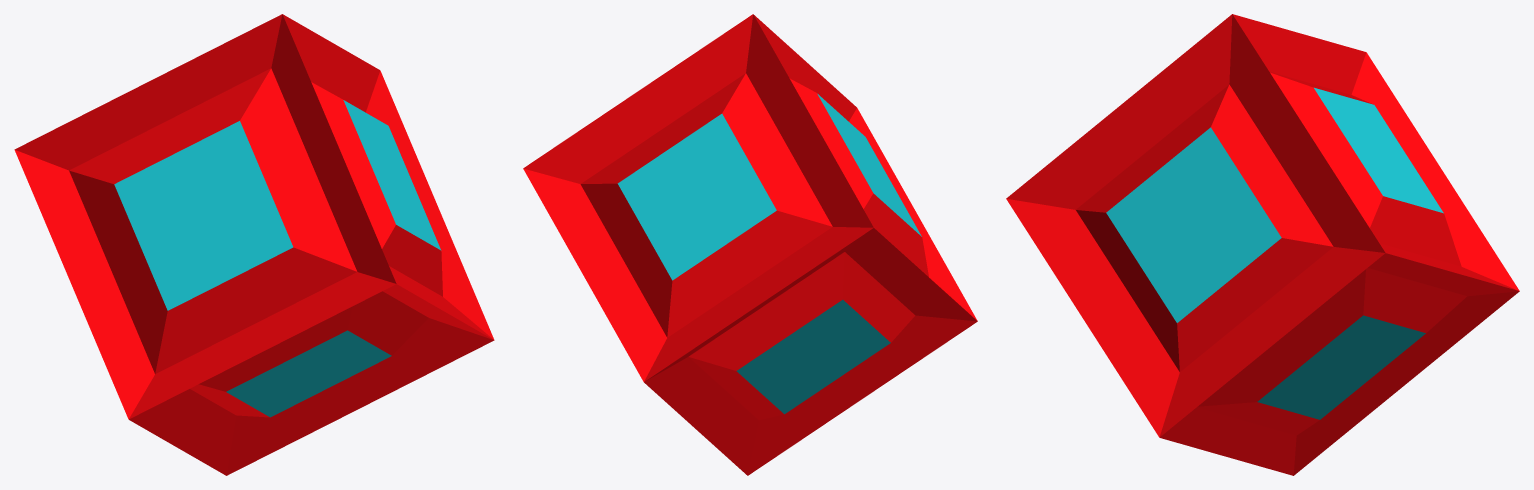
Rendered from badforceCollectable.fbx.
3 views of the same model, side by side, from view 1: azimuth 30°, elevation 25°; view 2: azimuth 150°, elevation 25°; view 3: azimuth 270°, elevation 25° (orthographic). The views are drawn at different scales.
Parts seen in each view (by area): view 1: Cube, Cube.001; view 2: Cube, Cube.001; view 3: Cube, Cube.001.
Boxes of the visible parts, box(x1,y1,x2,y2) form: Cube: box(14, 14, 494, 475); Cube.001: box(114, 100, 441, 417); Cube: box(523, 14, 977, 475); Cube.001: box(617, 93, 921, 414); Cube: box(1006, 14, 1519, 475); Cube.001: box(1106, 87, 1443, 419).
Size of the model in its own units: 282 by 344 by 337.
